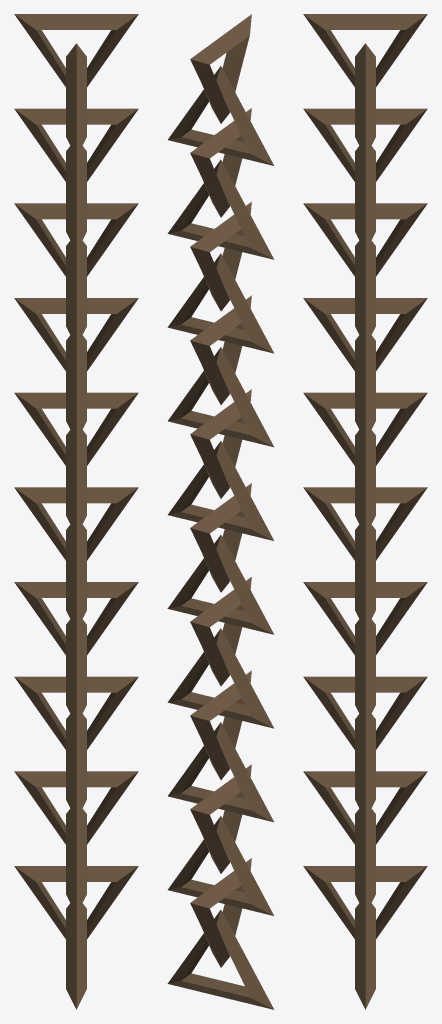
Rendered from Chain_2_Brown.fbx.
3 views of the same model, side by side, from view 1: azimuth 90°, elevation 25°; view 2: azimuth 150°, elevation 25°; view 3: azimuth 270°, elevation 25° (orthographic).
Visible parts, largest first — view 1: Chain_2_Brown; view 2: Chain_2_Brown; view 3: Chain_2_Brown.
Part boxes in pixels (<box>): Chain_2_Brown: <box>14,14,138,1009</box>; Chain_2_Brown: <box>167,14,274,1009</box>; Chain_2_Brown: <box>303,14,427,1009</box>.
Bounding box in the file's own units: 19.95 × 171 × 19.95.
